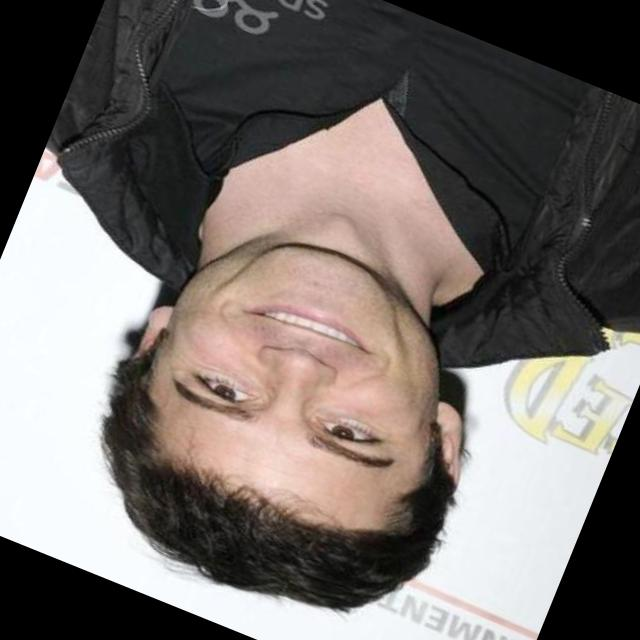bareface: (94, 197, 527, 640)
